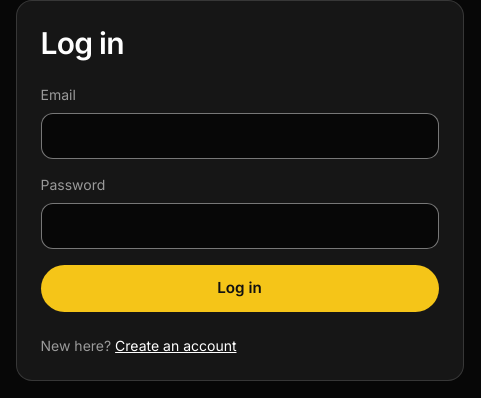
Test: Login › disables the submit button while the request is pending
Type "a@b.co" into the field labelled "Email".
click(240, 136); type("a@b.co")  # box [40,113,438,159]
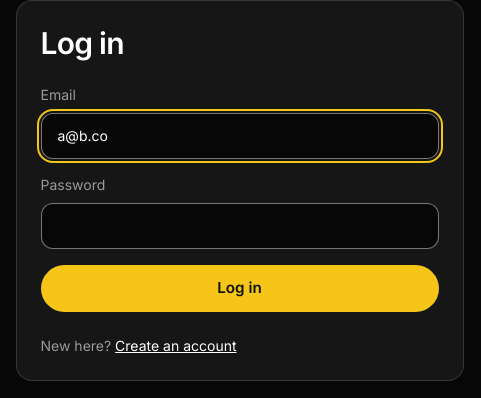
Type "whatever1" into the password field labelled "Password".
click(240, 226); type("whatever1")  # box [40,203,438,249]
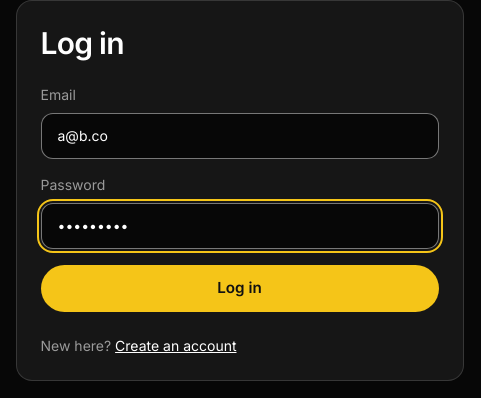
Click the button "Log in".
click(240, 288)  # box [40,265,438,312]
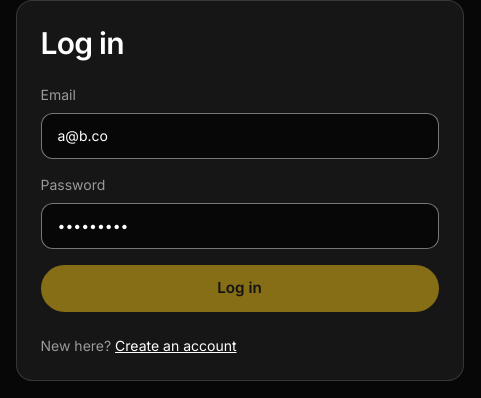
Now the button "Log in" is disabled, box [40,265,438,312]
